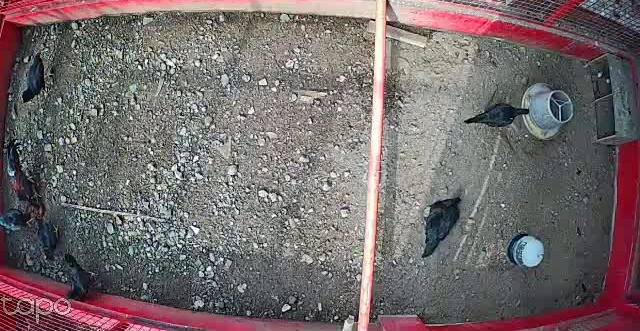Chicken: (419, 191, 465, 261), (25, 207, 65, 276), (62, 250, 103, 312), (463, 97, 535, 131), (20, 48, 58, 104)
Rooster: (2, 136, 49, 217)
